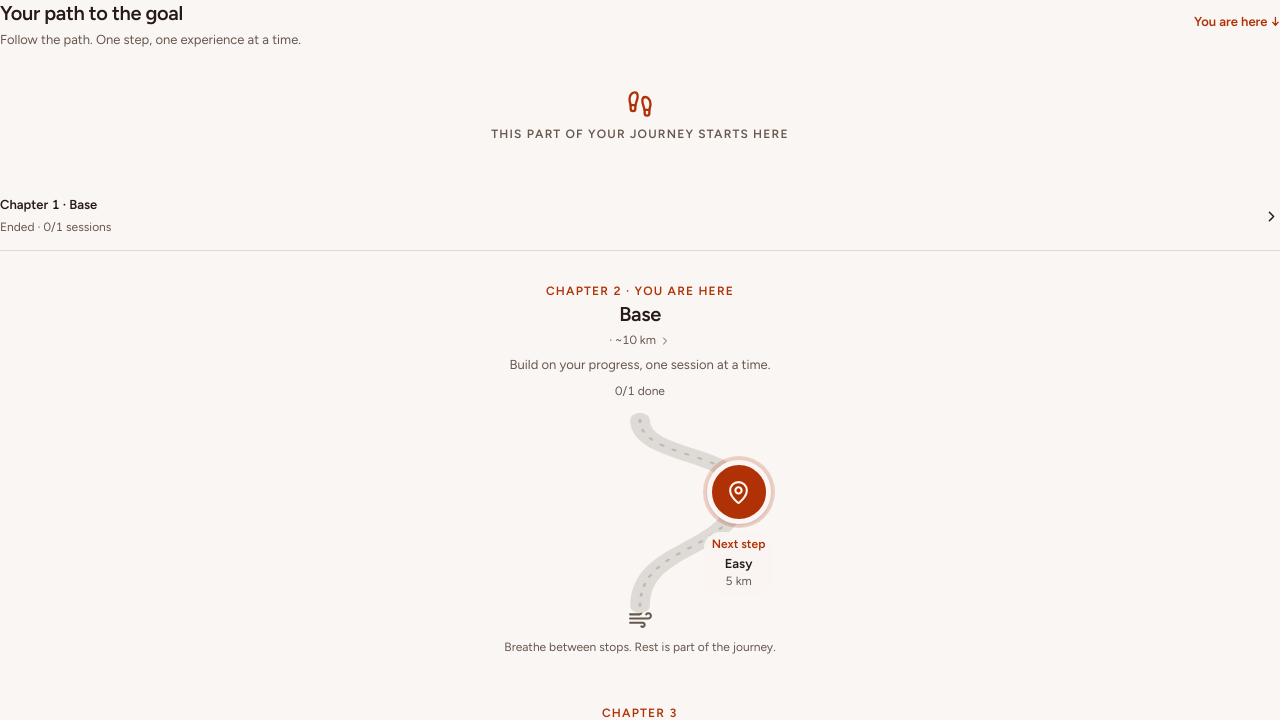
Test case: collapses elapsed chapters and preserves their session details
The image size is (1280, 720).
Click the heading "Chapter 1 · Base Ended · 0/1 sessions" at (24, 205), box [0,197,1279,234]
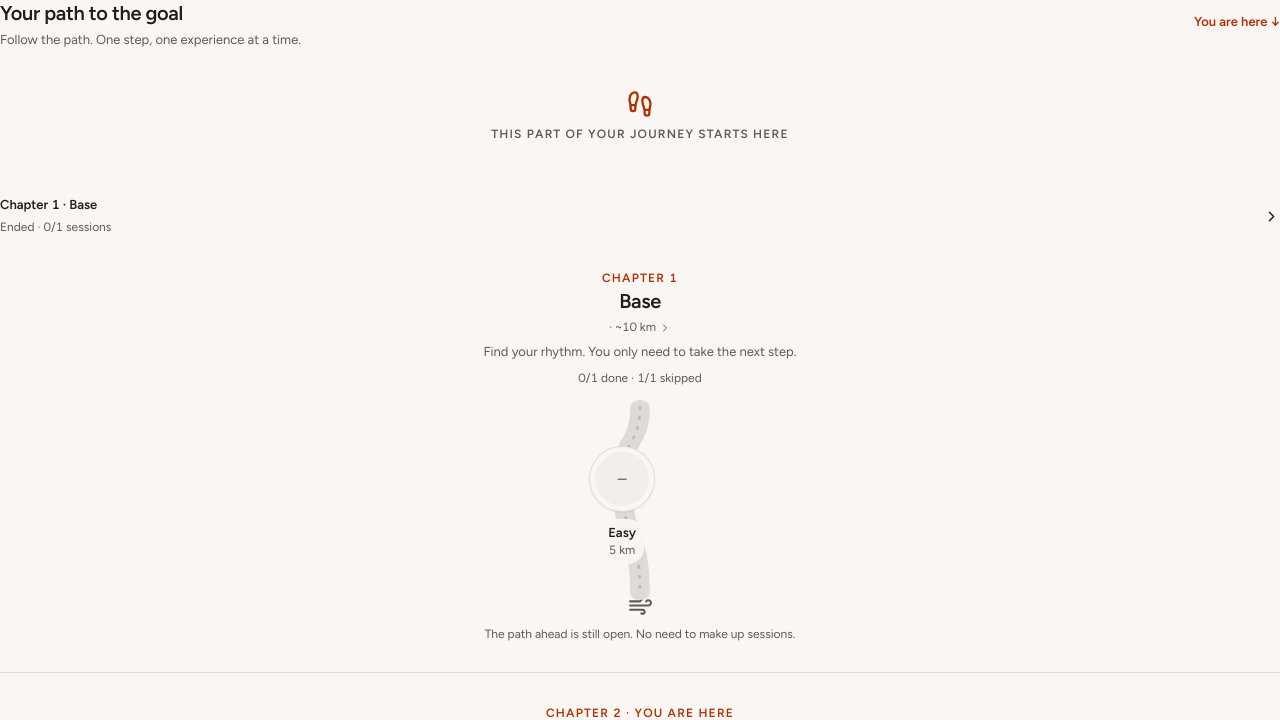
Click the button with aria-label "Easy · 5 km · Skipped" at (622, 506), box [550,447,694,564]
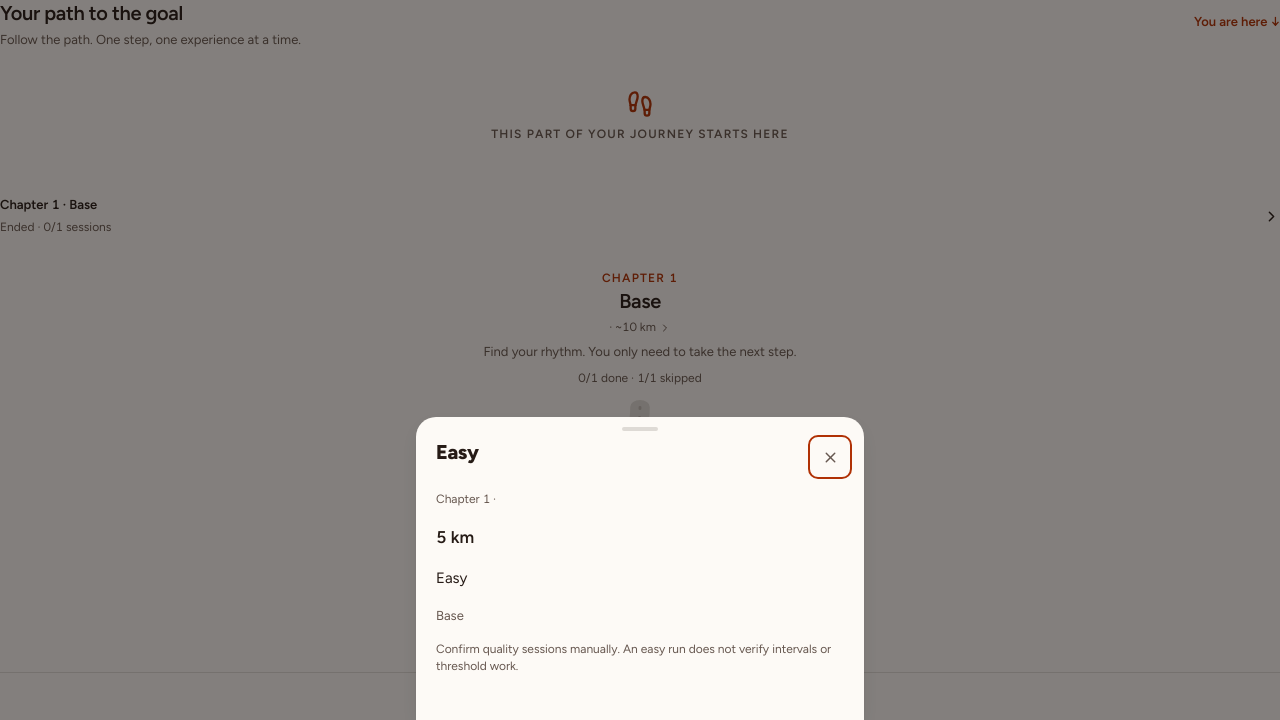
Result: the dialog is shown at [416,417,864,719]
